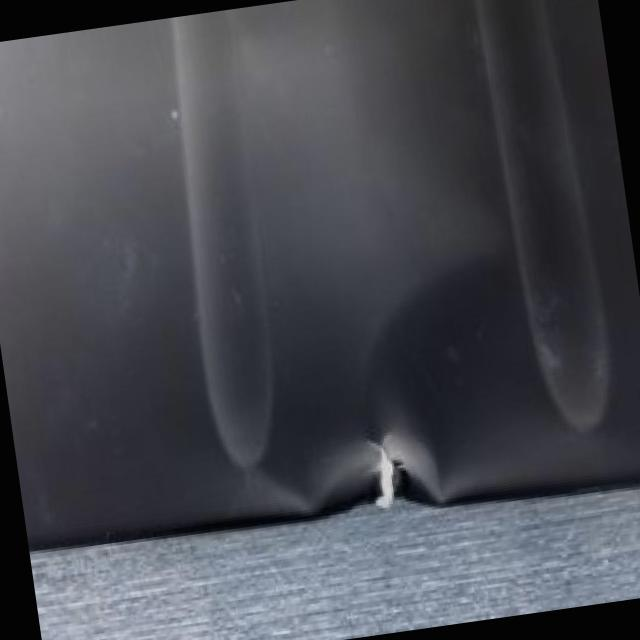crack: (352, 422, 422, 520)
dent: (473, 0, 615, 436), (365, 251, 578, 504), (169, 10, 274, 471)
